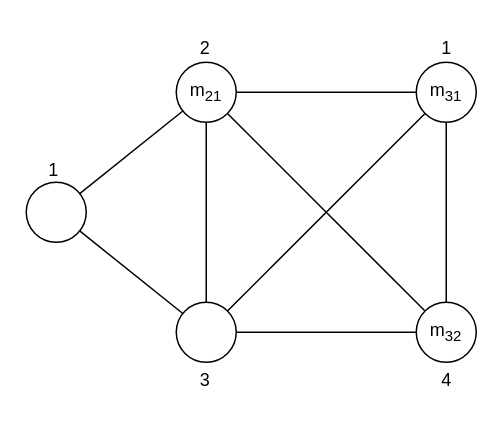
Some shapes in this 503 by 428 pixel diagram are drawn without their labels. The shapes that lost their labels are listed below. From the top down, each one's centre as x and y in pixels, then its label:
At (55,211): "m 11".
At (205,331): "m 22".
